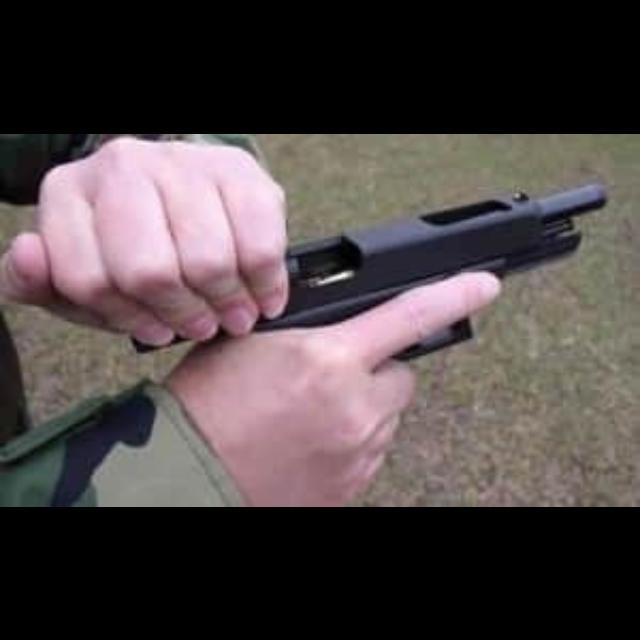handgun: (120, 175, 616, 359)
